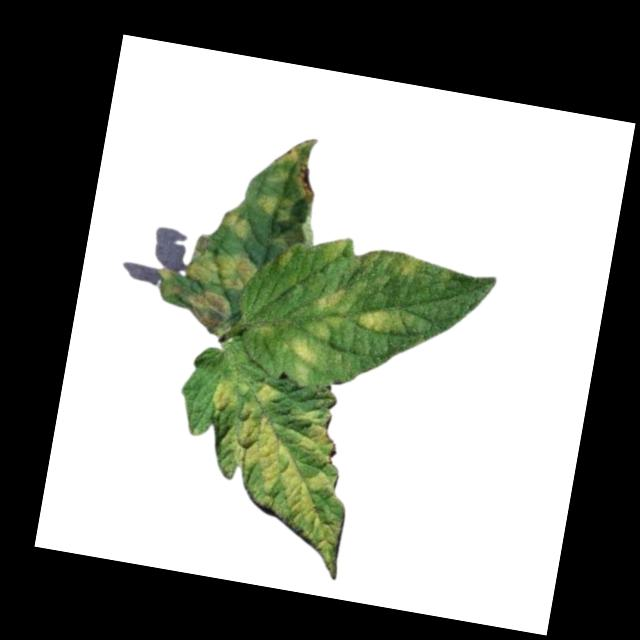Leaf_Mold: (188, 375, 366, 579), (183, 231, 262, 295), (263, 129, 324, 201), (180, 288, 232, 338), (280, 336, 320, 387), (306, 279, 353, 319), (315, 233, 351, 269), (254, 191, 293, 223), (301, 313, 342, 343), (357, 305, 395, 334), (218, 205, 251, 238), (396, 254, 419, 279)
